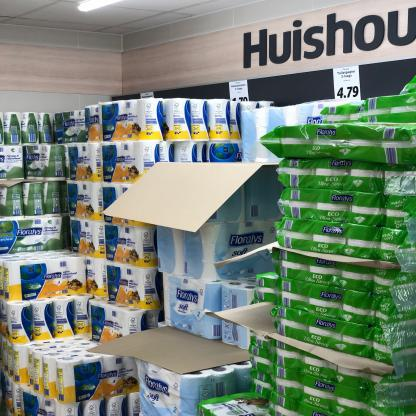prtg: (334, 67, 362, 102), (230, 81, 250, 102), (141, 93, 155, 100)
